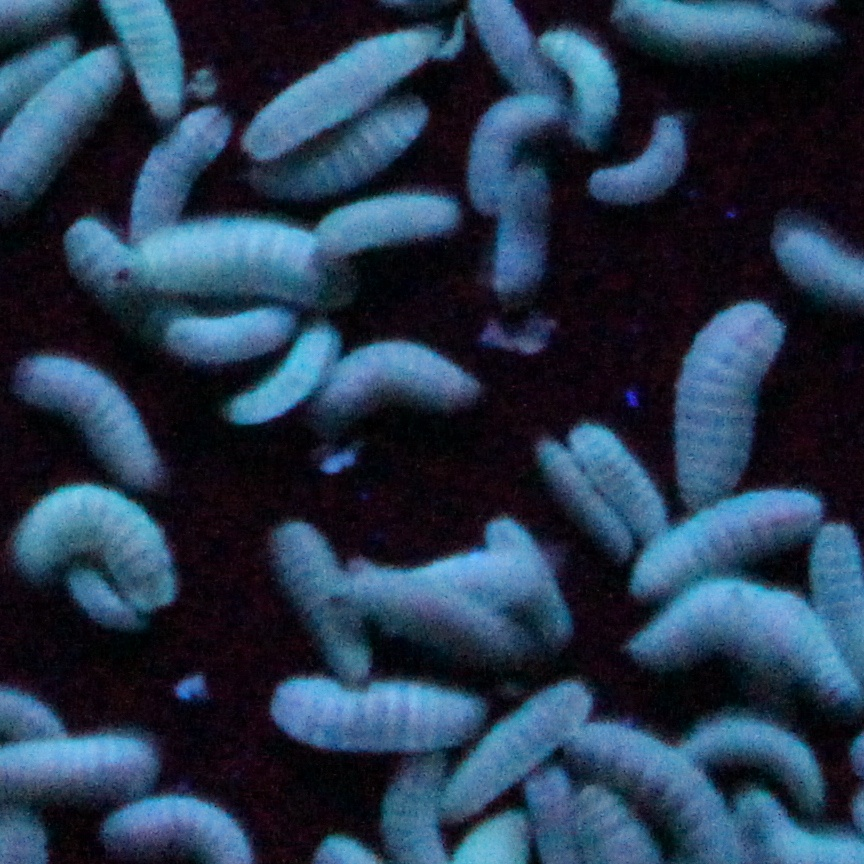larve: (637, 575, 860, 707), (217, 32, 446, 150), (667, 303, 789, 498), (17, 482, 192, 614), (630, 487, 832, 596), (260, 507, 382, 687), (435, 684, 598, 814), (26, 346, 164, 496), (264, 668, 489, 753), (119, 225, 335, 309), (328, 559, 519, 653), (662, 718, 832, 809), (305, 332, 501, 407), (530, 425, 637, 553), (569, 416, 673, 543), (478, 518, 580, 643), (219, 325, 339, 430), (585, 98, 694, 203), (298, 189, 471, 255), (255, 116, 426, 180), (132, 100, 223, 218), (467, 91, 553, 212), (482, 166, 562, 291), (539, 18, 617, 137), (62, 212, 153, 298), (157, 312, 307, 362), (67, 566, 146, 637)
